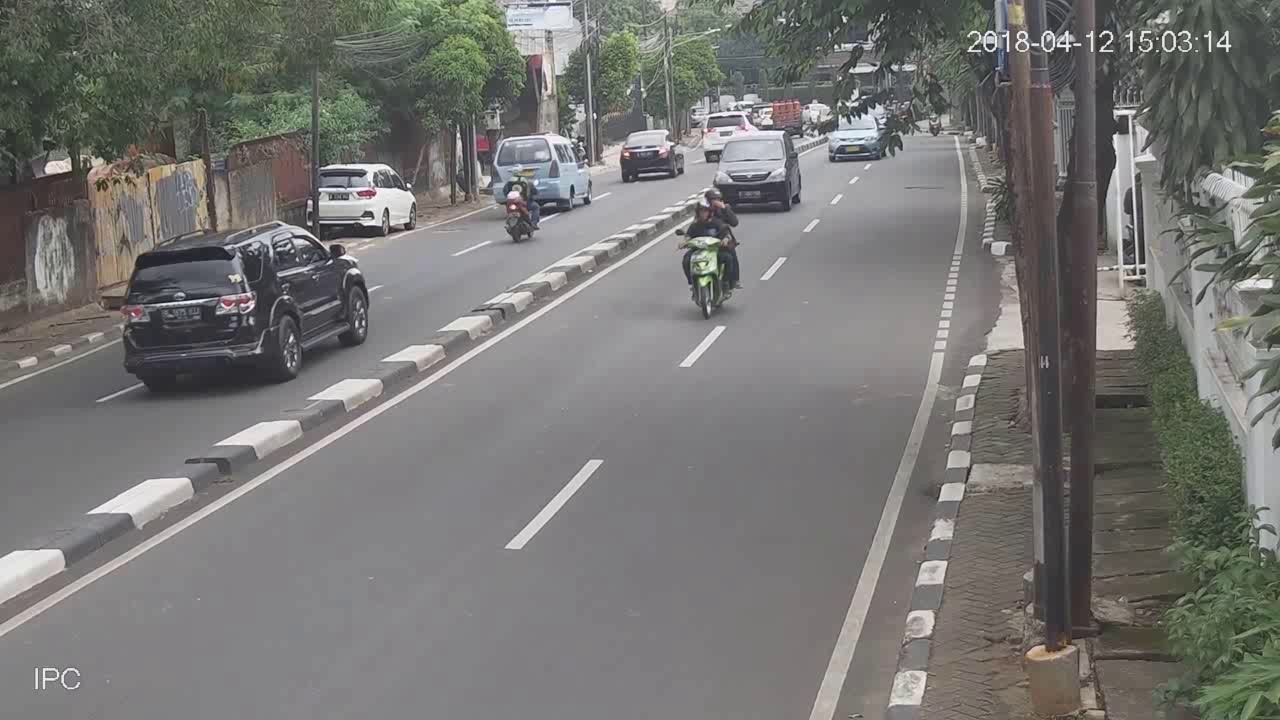car: (119, 223, 369, 389), (306, 159, 419, 241), (498, 133, 597, 211), (717, 128, 799, 209), (621, 129, 684, 180)
motorcycle: (677, 188, 743, 320), (497, 160, 543, 248)
